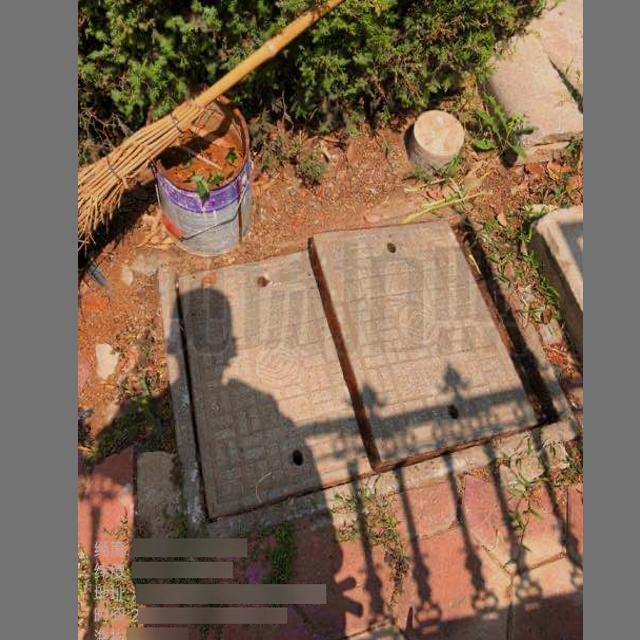uncovered: (157, 210, 577, 546)
